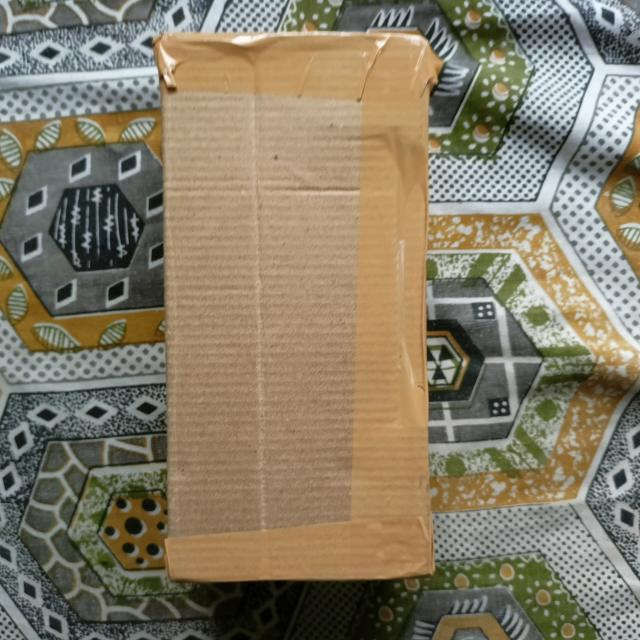box: (154, 31, 444, 589)
